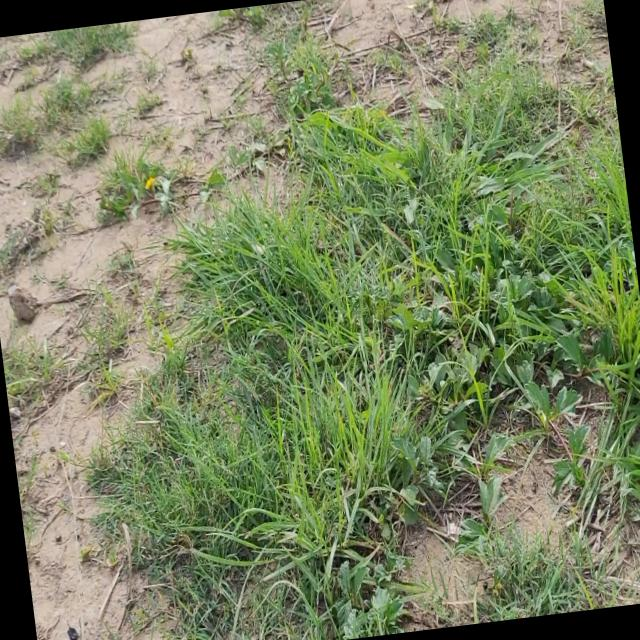grass: (90, 39, 640, 640)
white-sand: (0, 11, 275, 361), (15, 384, 131, 640)
